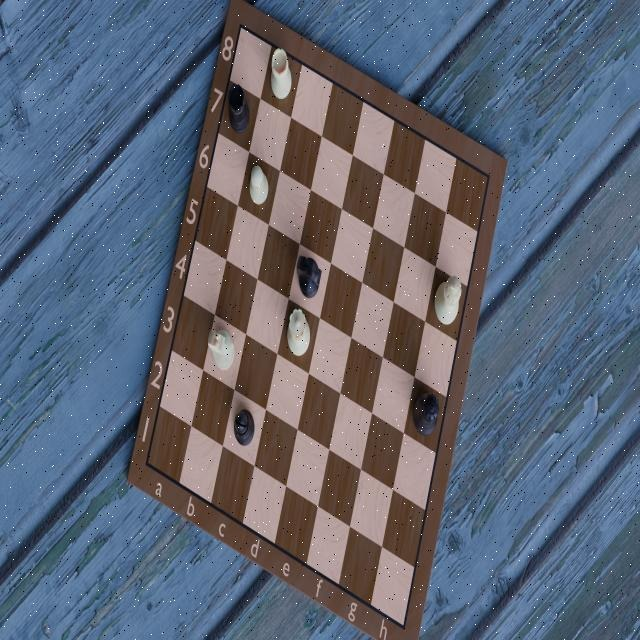black-bishop: (232, 398, 256, 450)
black-king: (409, 386, 442, 446)
black-knight: (294, 250, 324, 306)
black-rook: (225, 80, 250, 137)
white-king: (432, 270, 464, 334)
white-knight: (207, 318, 237, 380)
white-pawn: (248, 161, 271, 208)
white-queen: (284, 302, 311, 368)
white-rook: (268, 47, 294, 105)
